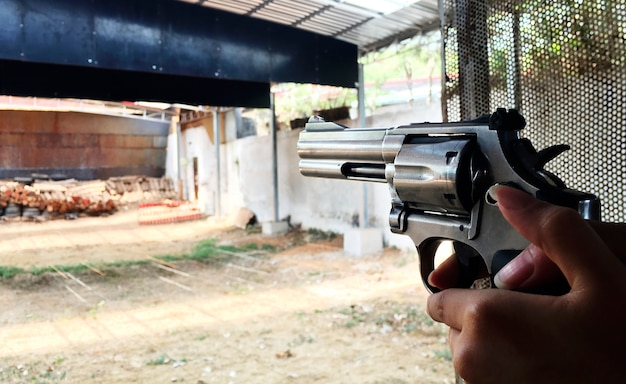gun: (295, 106, 605, 297)
